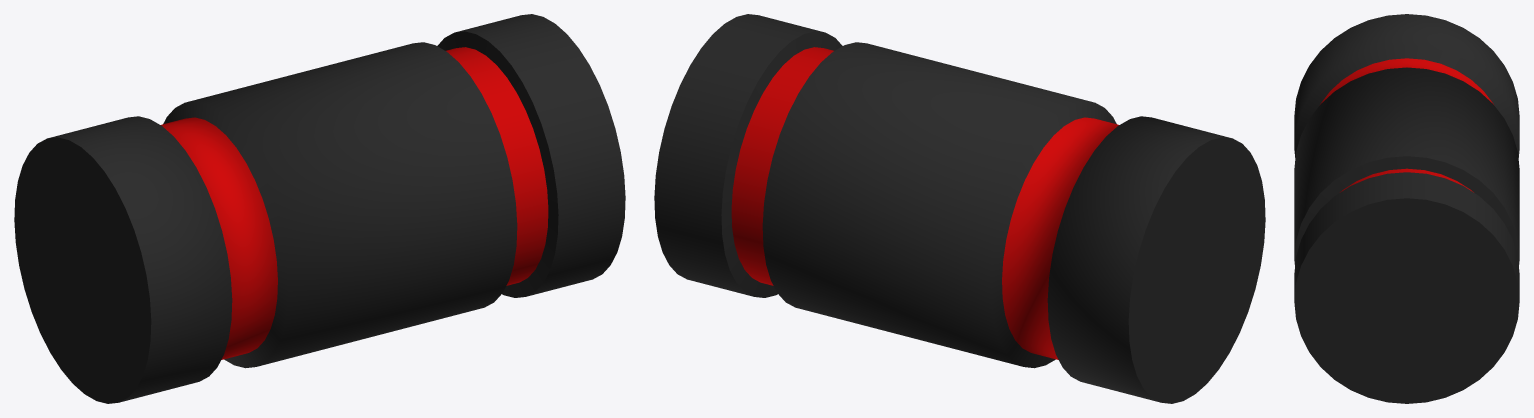
The model's file is Item1.fbx.
3 views of the same model, side by side, from view 1: azimuth 30°, elevation 25°; view 2: azimuth 150°, elevation 25°; view 3: azimuth 270°, elevation 25° (orthographic). The views are drawn at different scales.
Visible parts, largest first — view 1: Cylinder; view 2: Cylinder; view 3: Cylinder.
Part boxes in pixels (bbox=[...]): Cylinder: bbox=[14, 14, 625, 403]; Cylinder: bbox=[654, 14, 1265, 403]; Cylinder: bbox=[1294, 14, 1519, 403].
Bounding box in the file's own units: 202 × 103 × 100.
